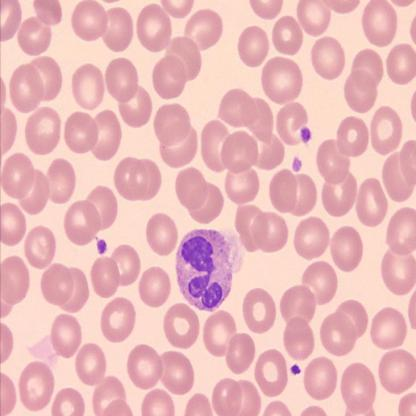Segmented neutrophil: (172, 226, 245, 314)
